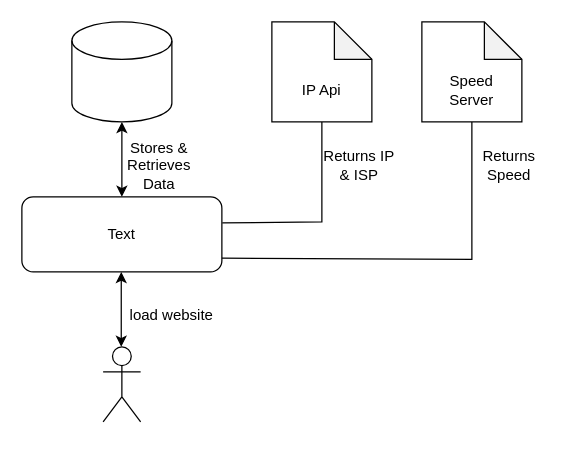
This 569x470 diagram has some shape labels left out. Here are the shapes that lost their labels. From the top down, the centre of each, then its label:
At (x=121, y=71): "Local Storage".
At (x=121, y=384): "Actor".
